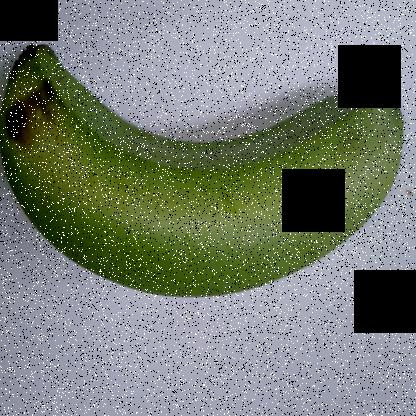freshunripe: (1, 31, 408, 307)
